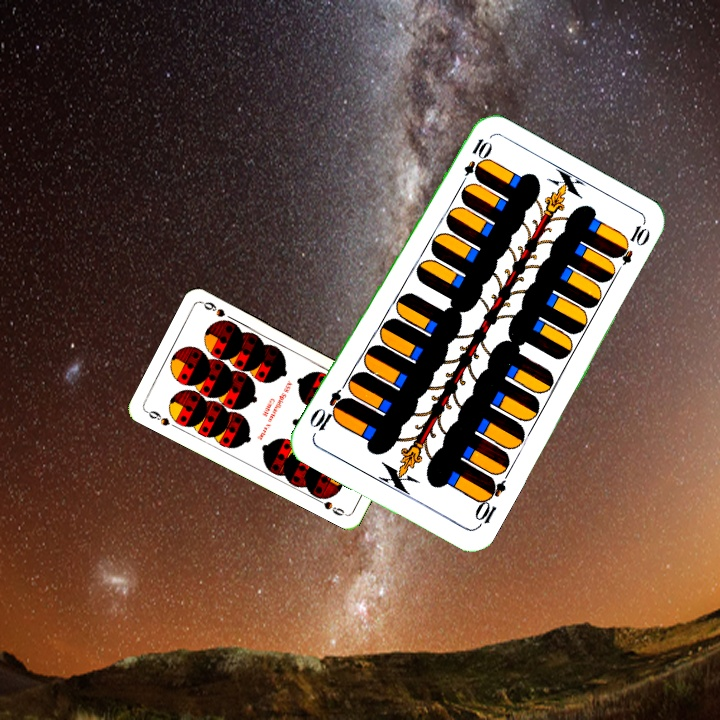E10: (470, 473, 509, 531), (455, 134, 492, 190)
S9: (141, 406, 172, 428)
